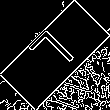L_SE: (26, 26, 84, 84)
